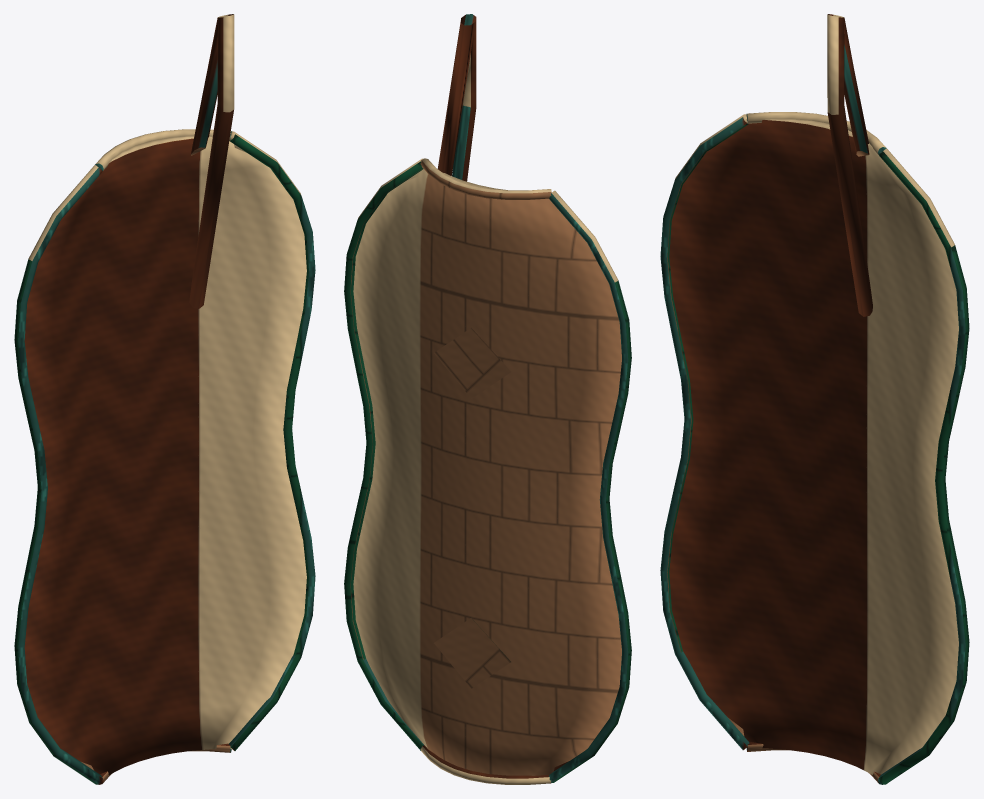
File: lowered_shield.fbx
The picture shows the model from 3 angles, left to right: view 1: azimuth 30°, elevation 25°; view 2: azimuth 150°, elevation 25°; view 3: azimuth 330°, elevation 25°; orthographic projection. The views are drawn at different scales.
Parts seen in each view (by area): view 1: tuareg_agher_refined; view 2: tuareg_agher_refined; view 3: tuareg_agher_refined.
Boxes of the visible parts, x1,y1,x2,y2 form: tuareg_agher_refined: (14,14,315,784); tuareg_agher_refined: (344,14,631,784); tuareg_agher_refined: (660,14,969,784).
Size of the model in its own units: 58.99 by 143 by 15.18.
